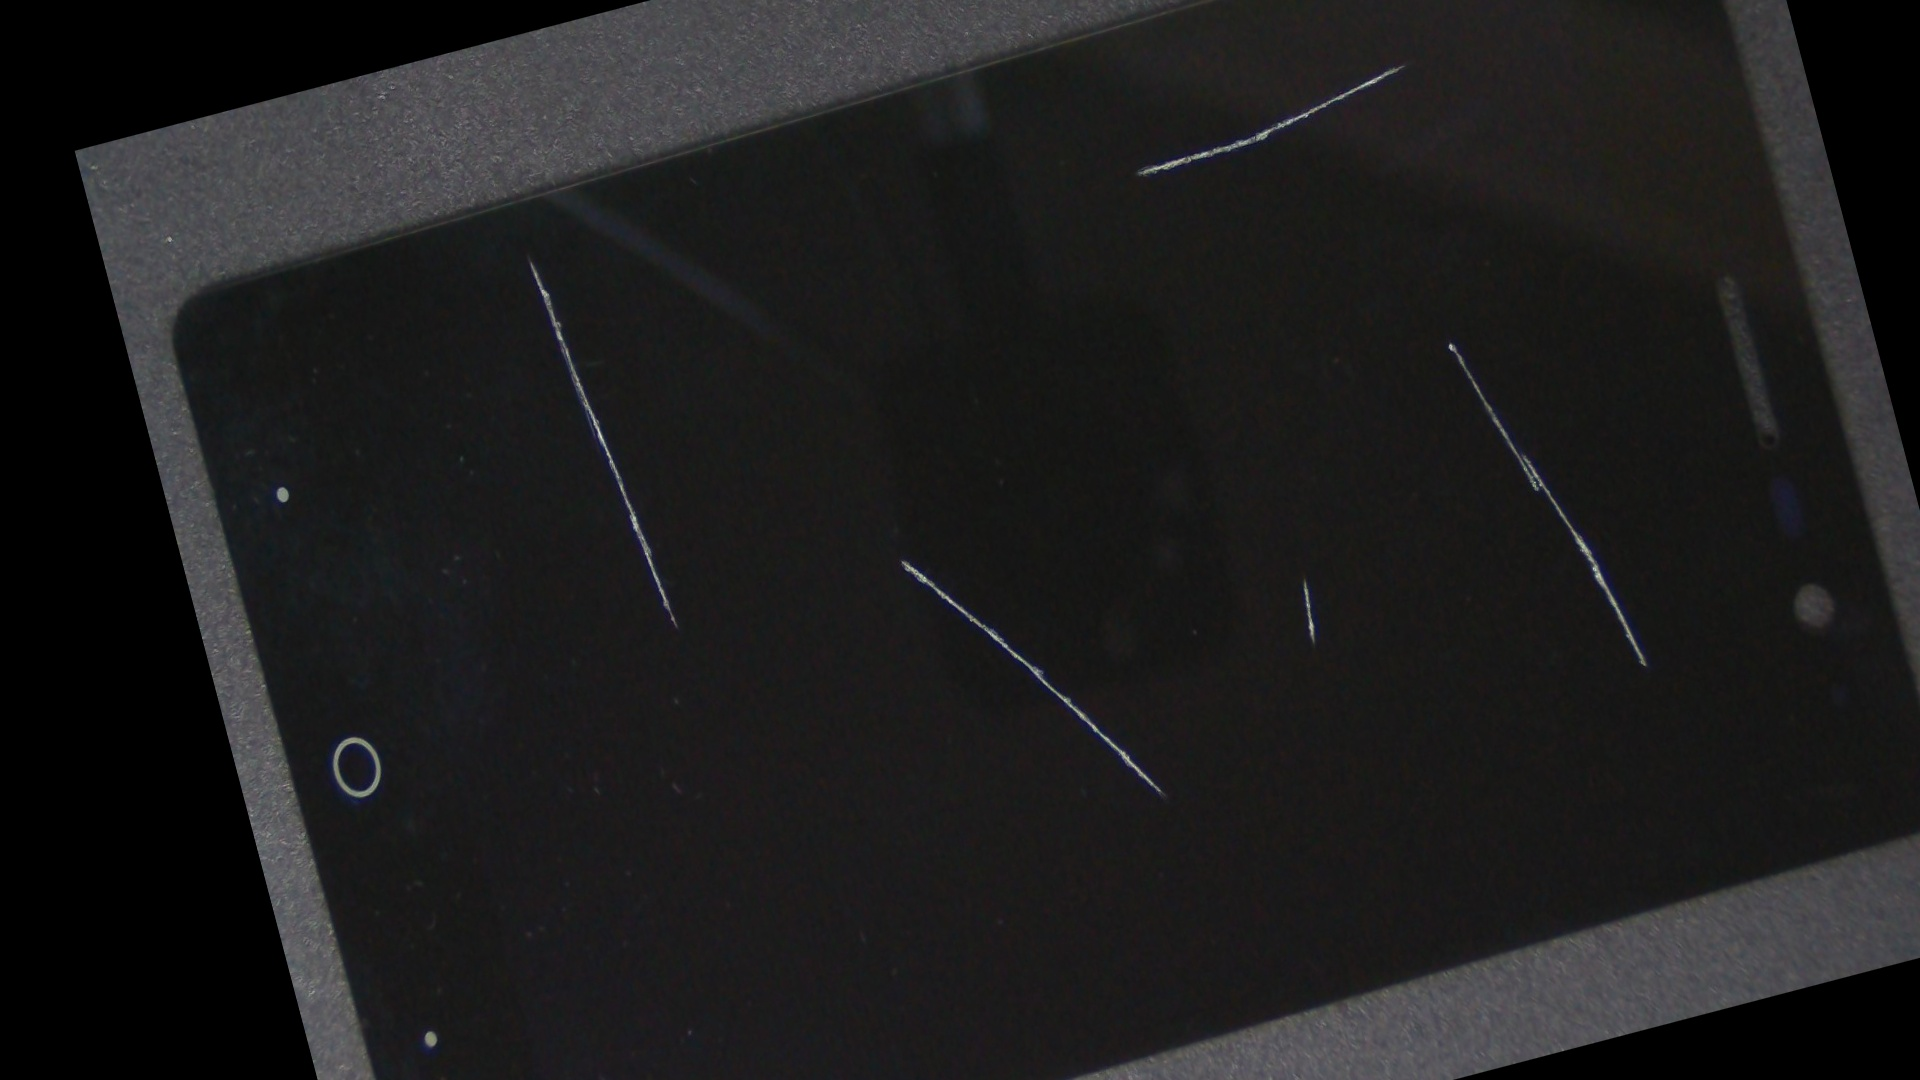oil: (690, 88, 1917, 1063), (762, 0, 1916, 761), (487, 178, 1313, 944), (737, 0, 1809, 353), (301, 98, 756, 423)
